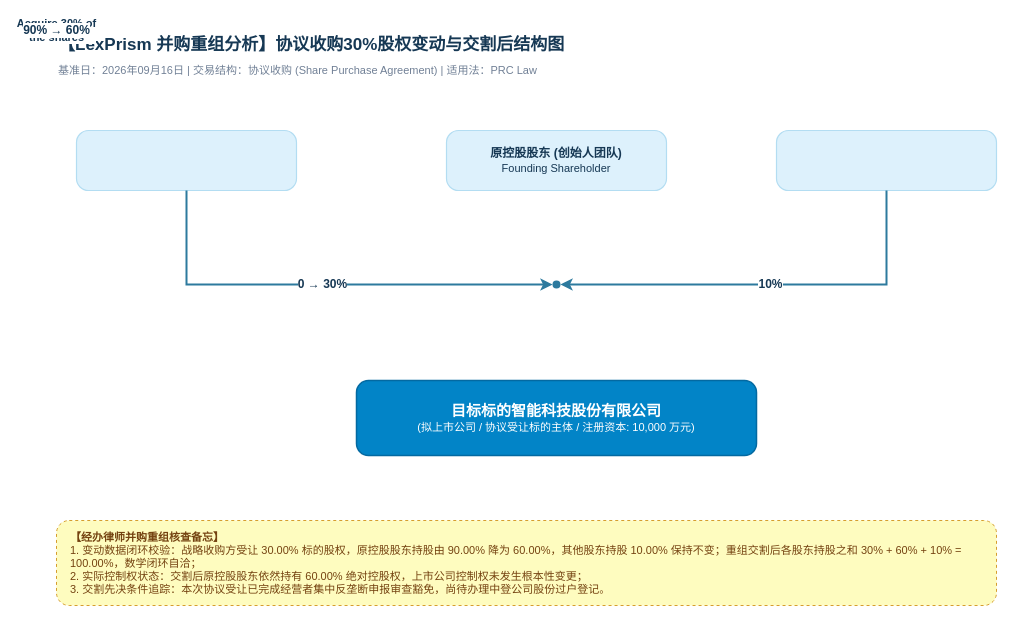
This 1015x623 diagram has some shape labels left out. Each missing label, with the box of its shape:
其他现有股东 Other Shareholders: (775, 129, 997, 191)
某战略收购方企业 Strategic Acquirer: (75, 129, 297, 191)
